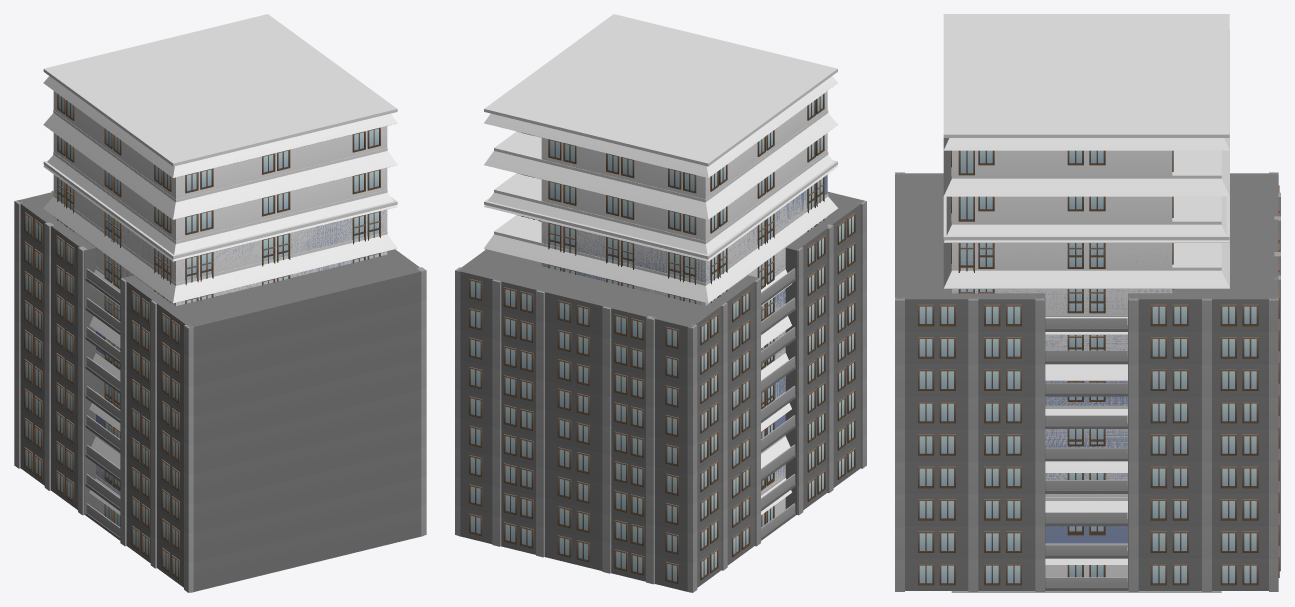
File: BUILDINGS.fbx
The picture shows the model from 3 angles, left to right: view 1: azimuth 30°, elevation 25°; view 2: azimuth 150°, elevation 25°; view 3: azimuth 270°, elevation 25°; orthographic projection. The views are drawn at different scales.
Parts seen in each view (by area): view 1: BUILDING2, BUILDING1, BUILDING6; view 2: BUILDING2, BUILDING1, BUILDING6; view 3: BUILDING2, BUILDING1, BUILDING6.
Boxes of the visible parts, left/top/right/bottom form: BUILDING2: left=14, top=190, right=426, bottom=592; BUILDING1: left=43, top=14, right=397, bottom=526; BUILDING6: left=43, top=160, right=397, bottom=492; BUILDING2: left=455, top=191, right=866, bottom=592; BUILDING1: left=484, top=14, right=837, bottom=527; BUILDING6: left=484, top=160, right=837, bottom=491; BUILDING2: left=895, top=172, right=1280, bottom=591; BUILDING1: left=943, top=14, right=1229, bottom=592; BUILDING6: left=943, top=196, right=1229, bottom=543.
Size of the model in its own units: 1504 by 2529 by 1916.
